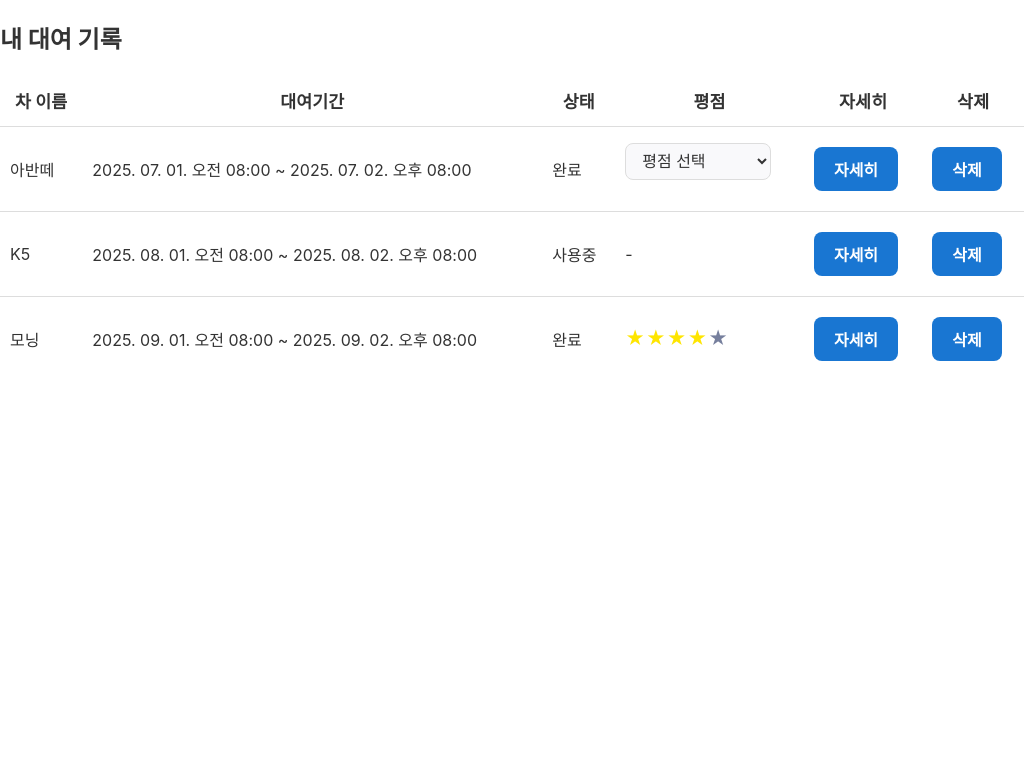
Test: 사용중 상태에서 '사용 완료로 처리' 버튼 동작
Click the button "자세히" in the row of "K5". click: [856, 254]
box: [814,232,898,276]
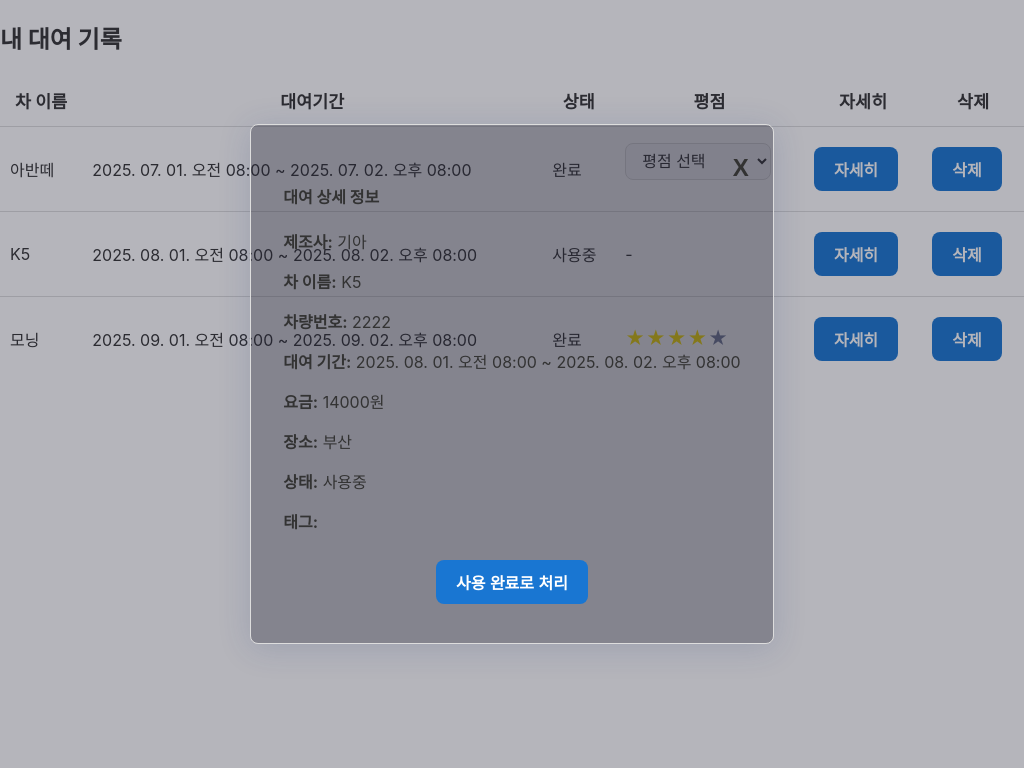
Click the button "사용 완료로 처리". click: [512, 582]
box: [436,560,588,604]
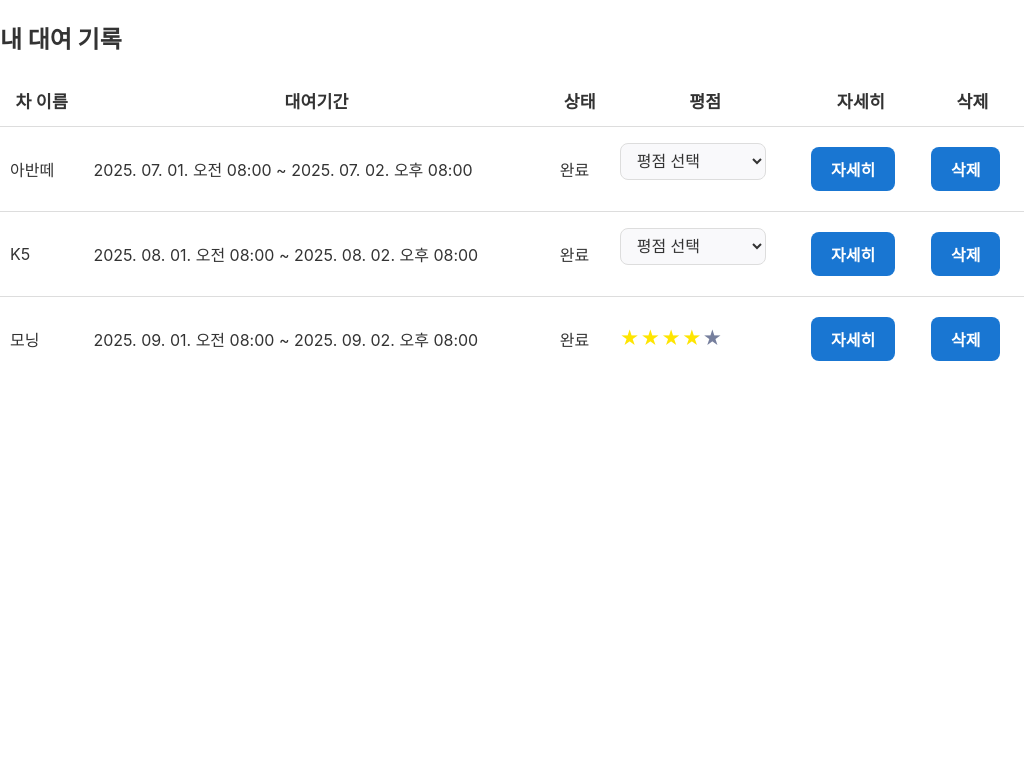
Result: the heading "대여 상세 정보" is gone
